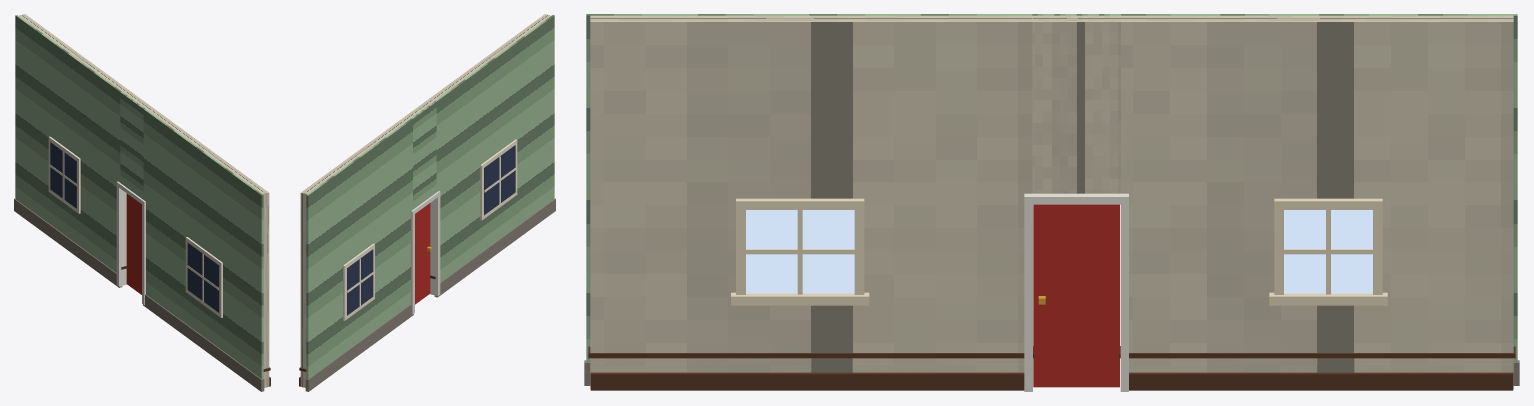
The model's file is left.glb.
The picture shows the model from 3 angles, left to right: view 1: azimuth 30°, elevation 25°; view 2: azimuth 150°, elevation 25°; view 3: azimuth 270°, elevation 25°; orthographic projection. The views are drawn at different scales.
Parts seen in each view (by area): view 1: Box8, Box6, Box10, Box3, Box9, Box18, Box14, Box7, Box29, Box11, Box1, Box17 (+2 smaller); view 2: Box8, Box6, Box10, Box1, Box9, Box7, Box14, Box18, Box29, Box12, Box3, Box17 (+2 smaller); view 3: Box3, Box1, Box14, Box5, Box25, Box4, Box2, Box36, Box41, Box39, Box42, Box8 (+13 smaller).
Part boxes in pixels (box(x1,y1,x2,y2)): Box8: box(143, 109, 263, 378); Box6: box(15, 15, 121, 287); Box10: box(120, 91, 145, 199); Box3: box(146, 107, 269, 387); Box9: box(143, 294, 264, 391); Box18: box(187, 243, 219, 312); Box14: box(126, 193, 141, 294); Box7: box(14, 198, 122, 287); Box29: box(50, 142, 76, 208); Box11: box(116, 181, 126, 286); Box1: box(19, 14, 128, 91); Box17: box(185, 237, 222, 317); Box8: box(435, 15, 554, 296); Box6: box(306, 118, 412, 378); Box10: box(411, 101, 436, 209); Box1: box(300, 116, 410, 387); Box9: box(434, 198, 555, 297); Box7: box(305, 304, 413, 391); Box14: box(415, 203, 430, 304); Box18: box(484, 145, 515, 215); Box29: box(347, 249, 373, 315); Box12: box(430, 191, 440, 295); Box3: box(428, 14, 550, 100); Box17: box(480, 139, 517, 220); Box3: box(590, 15, 1032, 388); Box1: box(1121, 15, 1513, 387); Box14: box(1033, 204, 1119, 387); Box5: box(1032, 15, 1120, 193); Box25: box(746, 210, 854, 293); Box4: box(590, 372, 1024, 390); Box2: box(1129, 372, 1513, 390); Box36: box(1284, 210, 1372, 293); Box41: box(590, 358, 1024, 386); Box39: box(1129, 358, 1513, 388); Box42: box(588, 346, 1034, 358); Box8: box(586, 14, 1032, 362).
Size of the model in its own units: 0.338 by 4.14 by 9.47.
11 materials, 2 textured.
